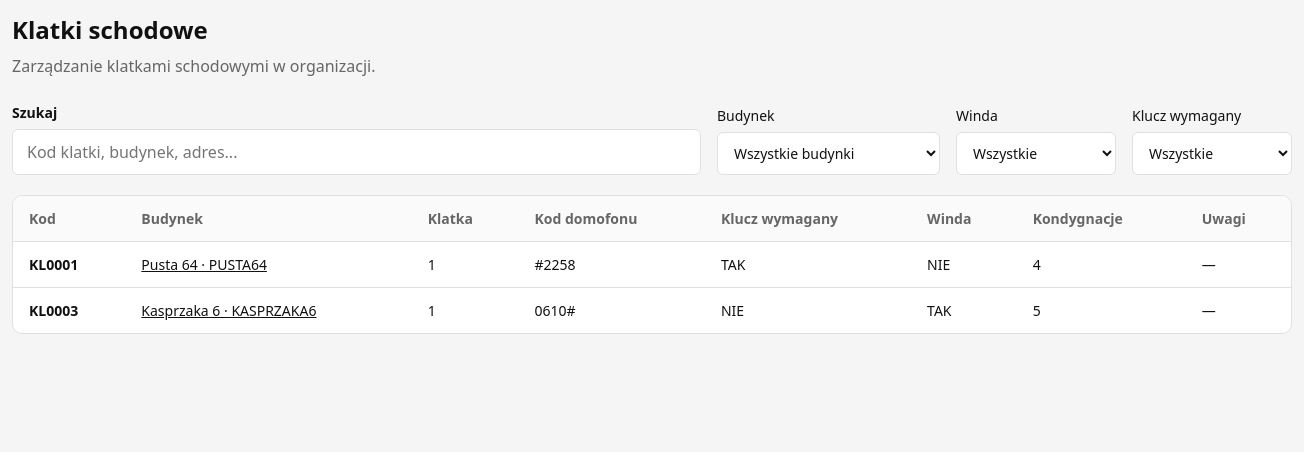
Scenario: StaircasesPage › shows empty state when no matches
The width and height of the screenshot is (1304, 452).
Check: the text "KL0001" is shown, box x1=13 y1=242 x2=125 y2=288
Type "brak-wynikow" into the field labelled "Szukaj" at coordinates (356, 152), box x1=12 y1=129 x2=701 y2=175
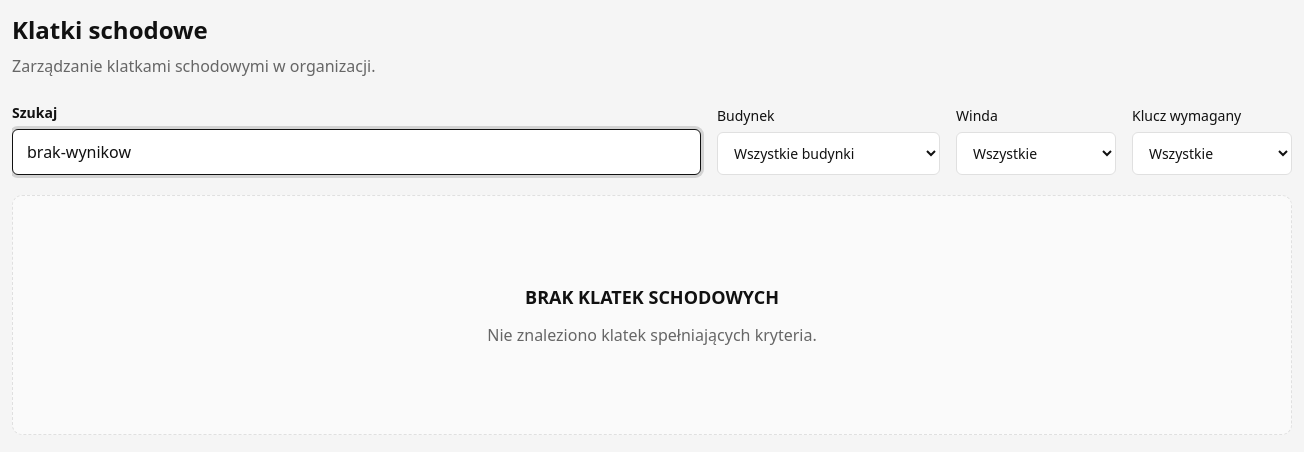
Check: the heading "BRAK KLATEK SCHODOWYCH" is shown, box x1=525 y1=284 x2=779 y2=310
